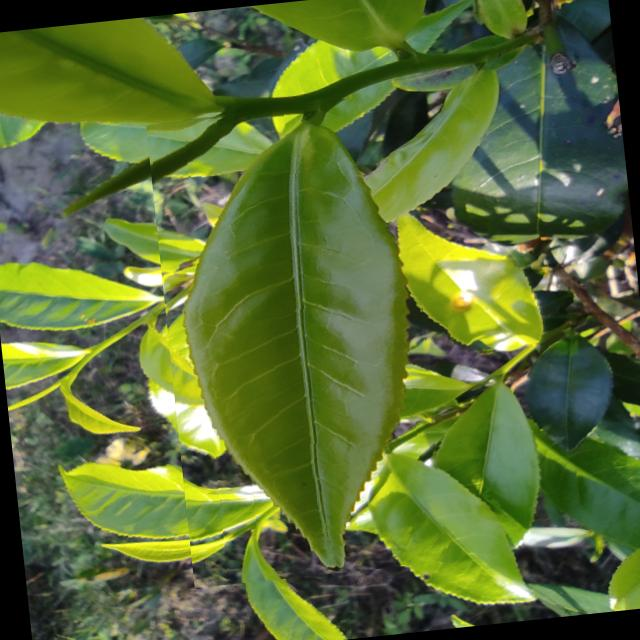Category B(2-4 days): (145, 90, 450, 588)
